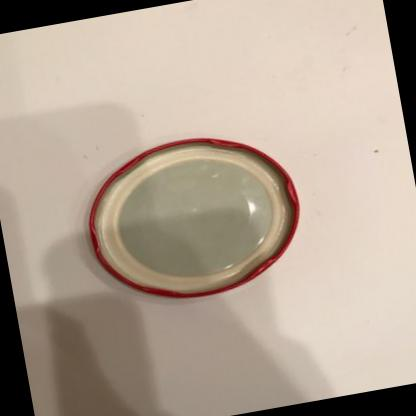Metal: (88, 138, 297, 298)
